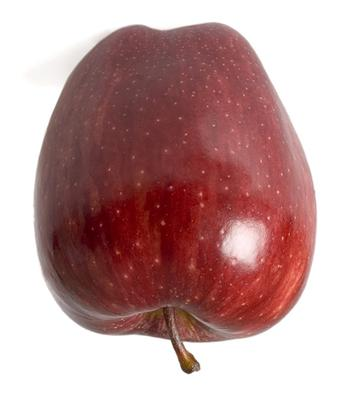apple: (0, 0, 347, 400)
